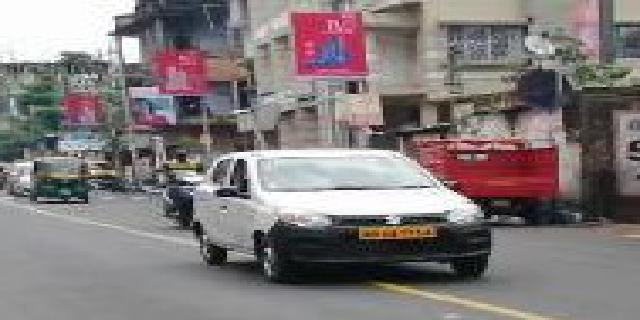Autorickshaw: (25, 152, 94, 208)
Car: (185, 140, 497, 283)
Motorbike: (152, 144, 201, 230)
